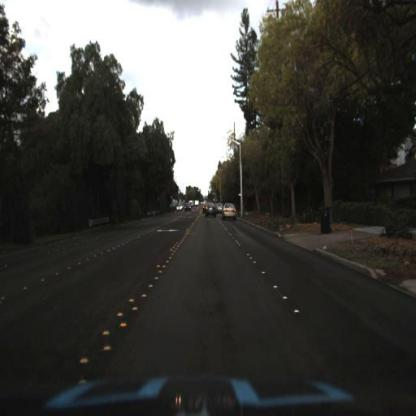car: (222, 199, 239, 222), (204, 200, 218, 220), (175, 202, 185, 218)
